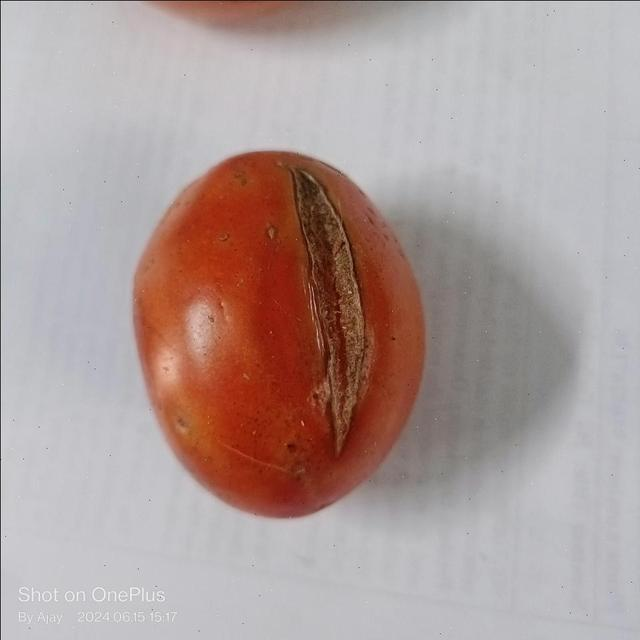Cracking Fruit: (125, 81, 326, 195)
